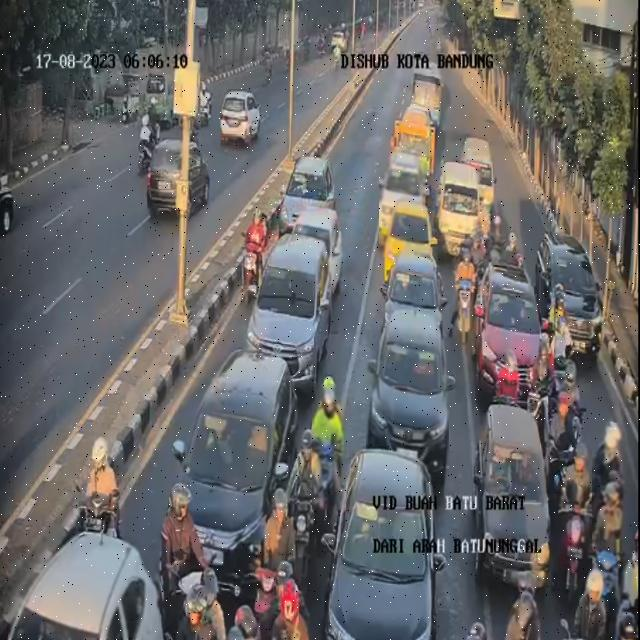cars: (175, 352, 302, 588), (333, 449, 453, 640), (472, 404, 548, 628), (8, 532, 162, 638), (366, 302, 449, 480), (247, 236, 334, 398), (479, 266, 547, 400), (534, 232, 604, 359), (382, 243, 447, 337), (380, 200, 437, 298), (380, 147, 426, 257), (439, 158, 482, 264), (296, 203, 346, 291), (286, 157, 335, 234), (459, 136, 496, 227)
motorcycle: (160, 483, 205, 637), (590, 480, 628, 639), (289, 441, 326, 578), (559, 441, 592, 594), (266, 499, 302, 635), (79, 438, 124, 542), (174, 570, 240, 638), (313, 384, 347, 510), (264, 562, 315, 640), (592, 423, 626, 539), (506, 572, 549, 638), (243, 204, 269, 298), (554, 406, 583, 489), (453, 250, 477, 339), (556, 356, 582, 437), (534, 342, 560, 415), (491, 347, 518, 407), (492, 219, 504, 265), (507, 234, 521, 266)
truck: (390, 107, 434, 184), (409, 67, 445, 131)
